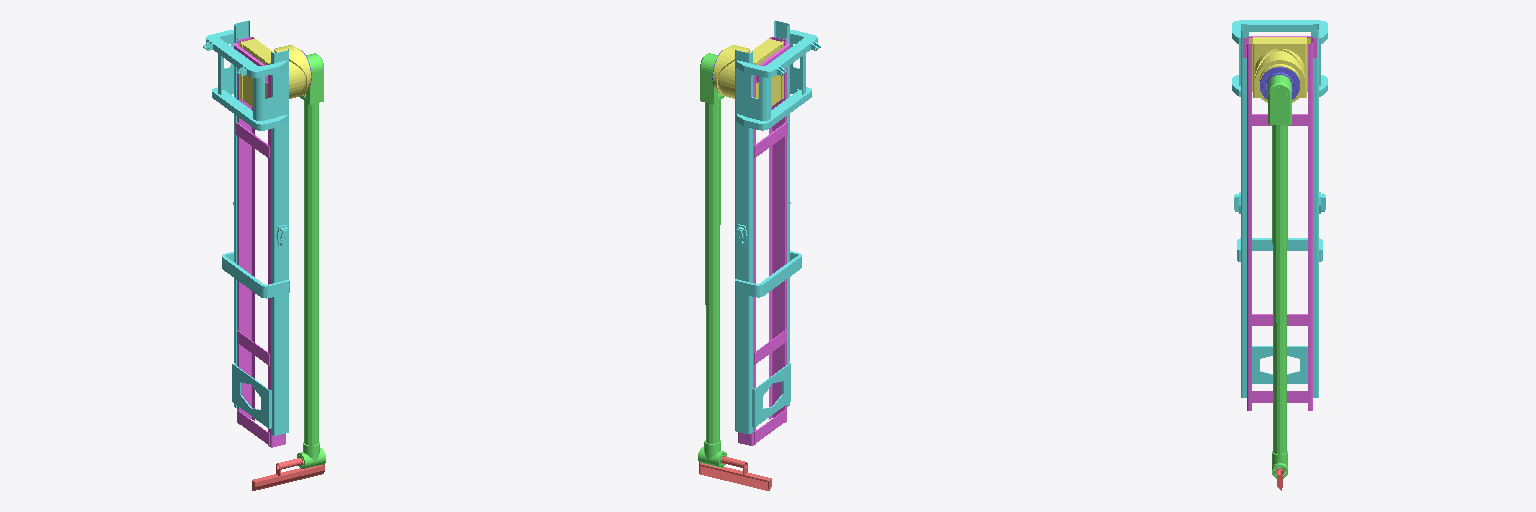
The robot description file, URDF, robot "excavator":
<?xml version="1.0"?>
<robot name="excavator">
  <gazebo>
    <plugin name="gazebo_ros_control" filename="libgazebo_ros_control.so">
      <robotNamespace>/excavator</robotNamespace>
      <robotSimType>gazebo_ros_control/DefaultRobotHWSim</robotSimType>
    </plugin>
  </gazebo>

  <!-- add transmission -->
  <transmission name="excavation_slope_control_transmission">
    <type>transmission_interface/SimpleTransmission</type>
    <joint name="excavation_slope_control_joint">
      <hardwareInterface>hardware_interface/PositionJointInterface</hardwareInterface>
    </joint>
    <actuator name="excavation_slope_control_motor">
      <hardwareInterface>hardware_interface/PositionJointInterface</hardwareInterface>
      <mechanicalReduction>1</mechanicalReduction>
    </actuator>
  </transmission>

  <transmission name="excavation_1st_translation_transmission">
    <type>transmission_interface/SimpleTransmission</type>
    <joint name="excavation_1st_translation_joint">
      <hardwareInterface>hardware_interface/PositionJointInterface</hardwareInterface>
    </joint>
    <actuator name="excavation_1st_translation_motor">
      <hardwareInterface>hardware_interface/PositionJointInterface</hardwareInterface>
      <mechanicalReduction>1</mechanicalReduction>
    </actuator>
  </transmission>

  <transmission name="excavation_2nd_translation_transmission">
    <type>transmission_interface/SimpleTransmission</type>
    <joint name="excavation_2nd_translation_joint">
      <hardwareInterface>hardware_interface/PositionJointInterface</hardwareInterface>
    </joint>
    <actuator name="excavation_2nd_translation_motor">
      <hardwareInterface>hardware_interface/PositionJointInterface</hardwareInterface>
      <mechanicalReduction>1</mechanicalReduction>
    </actuator>
  </transmission>

  <transmission name="excavation_arm_translation_transmission">
    <type>transmission_interface/SimpleTransmission</type>
    <joint name="excavation_arm_translation_joint">
      <hardwareInterface>hardware_interface/PositionJointInterface</hardwareInterface>
    </joint>
    <actuator name="excavation_arm_translation_motor">
      <hardwareInterface>hardware_interface/PositionJointInterface</hardwareInterface>
      <mechanicalReduction>1</mechanicalReduction>
    </actuator>
  </transmission>

  <transmission name="excavation_arm_control_transmission">
    <type>transmission_interface/SimpleTransmission</type>
    <joint name="excavation_arm_control_joint">
      <hardwareInterface>hardware_interface/EffortJointInterface</hardwareInterface>
    </joint>
    <actuator name="excavation_arm_control_motor">
      <hardwareInterface>hardware_interface/EffortJointInterface</hardwareInterface>
      <mechanicalReduction>16</mechanicalReduction>
    </actuator>
  </transmission>

  <transmission name="scooper_control_transmission">
    <type>transmission_interface/SimpleTransmission</type>
    <joint name="scooper_control_joint">
      <hardwareInterface>hardware_interface/EffortJointInterface</hardwareInterface>
    </joint>
    <actuator name="scooper_control_motor">
      <hardwareInterface>hardware_interface/EffortJointInterface</hardwareInterface>
      <mechanicalReduction>16</mechanicalReduction>
    </actuator>
  </transmission>

  <!-- fix body with the world -->
  <!-- <link name="world"/>
  <joint name="fixed" type="fixed">
    <parent link="world"/>
    <origin xyz="0 0 0" rpy="0 1.570796327 0" />
	  <child link="body"/>
  </joint> -->

  <link name="base_link">
  </link>
  <joint name="fixed_joint" type="fixed">
    <parent link="base_link"/>
    <child link="body"/>
  </joint>

    <!-- add IMU sensor -->
  <link name="imu_link">
    <inertial>
      <mass value="0.001"/>
      <origin rpy="0 0 0" xyz="0 0 0"/>
      <inertia
        ixx="0.0001" ixy="0" ixz="0"
        iyy="0.0001" iyz="0"
        izz="0.0001"/>
    </inertial>
    <visual>
      <origin rpy="0 0 0" xyz="0 0 0"/>
      <geometry>
        <box size="0.001 0.001 0.001"/>
      </geometry>
    </visual>
    <collision>
      <origin rpy="0 0 0" xyz="0 0 0"/>
      <geometry>
        <box size="0.001 0.001 0.001"/>
      </geometry>
    </collision>
  </link>
  <joint name="imu_joint" type="fixed">
    <axis xyz="1 0 0"/> <!-- 0 1 0 -->
    <origin xyz="0 0 0"/>
    <parent link="body"/>
    <child link="imu_link"/>
  </joint>

  <gazebo reference="imu_link">
    <gravity>true</gravity>
    <sensor name="imu_sensor" type="imu">
      <always_on>true</always_on>
      <update_rate>100</update_rate>
      <visualize>true</visualize>
      <topic>__default_topic__</topic>
      <plugin filename="libgazebo_ros_imu_sensor.so" name="imu_plugin">
        <topicName>imu</topicName>
        <bodyName>imu_link</bodyName>
        <updateRateHZ>500.0</updateRateHZ>
        <gaussianNoise>0.0</gaussianNoise>
        <xyzOffset>0 0 0</xyzOffset>
        <rpyOffset>0 0 0</rpyOffset>
        <frameName>imu_link</frameName>
      </plugin>
      <pose>0 0 0 0 0 0</pose>
    </sensor>
  </gazebo>


  <link name="body">
    <visual>
    <origin xyz="0 0 0" rpy="1.570796327 0 0" />
        <geometry>
          <mesh filename="package://lunar_excavator_description/meshes/main_body.stl"/>
        </geometry>
        <material name="">
          <color rgba="1 1 1 1" />
        </material>
    </visual>
    <collision>
      <origin xyz="-0.47 0 0" rpy="0 0 0" />
      <geometry>
        <mesh filename="package://lunar_excavator_description/meshes/main_body_simplified.stl"/>
      </geometry>
    </collision>
    <inertial>
        <origin xyz="-0.00684206 0 1.0145331" rpy="0 0 0" />
        <mass value="1916.2173" />
        <inertia
          ixx="1354.451" ixy="0.00415954" ixz="-2.3276209"
          iyy="1352.6798" iyz="-0.00747127"
          izz="570.01685" />
    </inertial>
  </link>

  <link name="outer_rails">
    <visual>
    <origin xyz="0 0 0" rpy="0 0 0" />
        <geometry>
          <mesh filename="package://lunar_excavator_description/meshes/outer_rails.stl"/>
        </geometry>
        <material name="">
          <color rgba="0.5 1 1 1" />
        </material>
    </visual>
    <collision>
      <origin xyz="0 0 0" rpy="0 0 0" />
      <geometry>
        <mesh filename="package://lunar_excavator_description/meshes/outer_rails.stl"/>
      </geometry>
    </collision>
    <inertial>
        <origin xyz="0.74998261 -0.00005811 0.16658389" rpy="0 0 0" />
        <mass value="27.63177009" />
        <inertia
          ixx="1.27870056" ixy="-0.00050103" ixz="0.74296627"
          iyy="15.03945632" iyz="-0.00013221"
          izz="15.99756570" />
    </inertial>
  </link>
  <joint name="excavation_slope_control_joint" type="revolute">
    <limit effort="1000.0" velocity="1.0" lower="-0.1745329252" upper="0.05235987756" />
    <origin xyz="0.25 0 2.44" rpy="0 1.570796327 0" />
    <parent link="body" />
    <child link="outer_rails" />
    <axis xyz="0 1 0" />
    <dynamics friction="0" damping="0" />
  </joint>

  <link name="inner_rails">
    <visual>
    <origin xyz="0 0 0" rpy="0 0 0" />
        <geometry>
          <mesh filename="package://lunar_excavator_description/meshes/inner_rails.stl"/>
        </geometry>
        <material name="">
          <color rgba="1 0.5 1 1" />
        </material>
    </visual>
    <collision>
      <origin xyz="0 0 0" rpy="0 0 0" />
      <geometry>
        <mesh filename="package://lunar_excavator_description/meshes/inner_rails.stl"/>
      </geometry>
    </collision>
    <inertial>
        <origin xyz="1.12792092 0 0.07251447" rpy="0 0 0" />
        <mass value="10.85744133" />
        <inertia
          ixx="0.36660754" ixy="0.0" ixz="0.03657933"
          iyy="5.74477941" iyz="0.0"
          izz="6.07655683" />
    </inertial>
  </link>
  <joint name="excavation_1st_translation_joint" type="prismatic">
    <limit effort="1000.0" velocity="1.0" lower="0" upper="2.0" />
    <origin xyz="0 0 0.162" rpy="0 0 0" />
    <parent link="outer_rails" />
    <child link="inner_rails" />
    <axis xyz="1 0 0" />
    <dynamics friction="0" damping="0" />
  </joint>

  <link name="slider">
    <visual>
    <origin xyz="0 0 0" rpy="0 0 0" />
        <geometry>
          <mesh filename="package://lunar_excavator_description/meshes/slider.stl"/>
        </geometry>
        <material name="">
          <color rgba="1 1 0.5 1" />
        </material>
    </visual>
    <collision>
      <origin xyz="0 0 0" rpy="0 0 0" />
      <geometry>
          <mesh filename="package://lunar_excavator_description/meshes/slider.stl"/>
      </geometry>
    </collision>
    <inertial>
        <origin xyz="-0.00000109 -0.17547206 0.14659691" rpy="0 0 0" />
        <mass value="1" />
        <inertia
          ixx="0.21357296" ixy="-0.00000089" ixz="-0.00000044"
          iyy="0.21596446" iyz="0.00295147"
          izz="0.26680748" />
    </inertial>
  </link>
  <joint name="excavation_2nd_translation_joint" type="prismatic">
    <limit effort="1000.0" velocity="1.0" lower="-2.0" upper="0" />
    <origin xyz="0 0 0.039" rpy="0 0 1.570796327" />
    <parent link="inner_rails" />
    <child link="slider" />
    <axis xyz="0 1 0" />
    <dynamics friction="0" damping="0" />
  </joint>

  <link name="cylinder">
    <inertial>
      <origin xyz="0.12813039 0 0" rpy="0 0 0" />
      <mass value="12.631701" />
      <inertia
        ixx="0.12700231" ixy="0" ixz="0"
        iyy="0.09321138" iyz="0"
        izz="0.09245197" />
    </inertial>
    <visual>
      <origin xyz="0 0 0" rpy="0 0 0" />
      <geometry>
        <mesh filename="package://lunar_excavator_description/meshes/cylinder.stl"/>
      </geometry>
      <material name="">
        <color rgba="0.5 0.5 1 1" />
      </material>
    </visual>
    <collision>
      <origin xyz="0 0 0" rpy="0 0 0" />
      <geometry>
        <mesh filename="package://lunar_excavator_description/meshes/cylinder_low.stl"/>
      </geometry>
    </collision>
  </link>
  <joint name="excavation_arm_translation_joint" type="prismatic">
    <limit effort="1000.0" velocity="1.0" lower="0" upper="0.12" />
    <origin xyz="0 -0.175 0.112" rpy="-1.570796327 -1.570796327 0" />
    <parent link="slider" />
    <child link="cylinder" />
    <axis xyz="1 0 0" />
    <dynamics friction="0" damping="0" />
  </joint>

  <link name="excavation_arm">
    <inertial>
      <origin xyz="1.061534 0 0.16458509" rpy="0 0 0" />
      <mass value="13.251326" />
      <inertia
        ixx="0.03657338" ixy="1.0E-08" ixz="0.07600599"
        iyy="8.9381717" iyz="0"
        izz="8.9310759" />
    </inertial>
    <visual>
      <origin xyz="0 0 0" rpy="0 0 0" />
      <geometry>
        <mesh filename="package://lunar_excavator_description/meshes/excavation_arm.stl"/>
      </geometry>
      <material name="">
        <color rgba="0.5 1 0.5 1" />
      </material>
    </visual>
    <collision>
      <origin xyz="0 0 0" rpy="0 0 0" />
      <geometry>
        <mesh filename="package://lunar_excavator_description/meshes/excavation_arm_low.stl"/>
      </geometry>
    </collision>
  </link>
  <joint name="excavation_arm_control_joint" type="continuous">
    <origin xyz="0.093 0 0" rpy="0 1.570796327 0" />
    <parent link="cylinder" />
    <child link="excavation_arm" />
    <axis xyz="0 0 1" />
    <dynamics friction="0" damping="0" />
  </joint>

  <link name="scooper">
    <inertial>
      <origin xyz="-0.00478844 -0.04155605 0" rpy="0 0 0" />
      <mass value="0.64120597" />
      <inertia
        ixx="0.00645377" ixy="0" ixz="0"
        iyy="0.00497204" iyz="0"
        izz="0.00170747" />
    </inertial>
    <visual>
      <origin xyz="0 0 0" rpy="0 0 0" />
      <geometry>
        <mesh filename="package://lunar_excavator_description/meshes/scooper.stl" />
      </geometry>
      <material name="">
        <color rgba="1 0.5 0.5 1" />
      </material>
    </visual>
    <collision>
      <origin xyz="0 0 0" rpy="0 0 0" />
      <geometry>
        <mesh filename="package://lunar_excavator_description/meshes/scooper.stl"  />
      </geometry>
    </collision>
  </link>
  <joint name="scooper_control_joint" type="continuous">
    <origin xyz="2.46 0 0.17" rpy="0 0 0" />
    <parent link="excavation_arm" />
    <child link="scooper" />
    <axis xyz="0 0 1" />
    <dynamics friction="0" damping="0" />
  </joint>
</robot>

--- What the picture shows (computed from the rendered views, not written in the file) ---
Views: 3 orthographic renders of the robot side by side, from view 1: azimuth 30°, elevation 25°; view 2: azimuth 150°, elevation 25°; view 3: azimuth 270°, elevation 25°.
Model excavator with 9 links and 8 joints (1 revolute, 2 continuous, 3 prismatic, 2 fixed), rooted at base_link, posed all joints at 0.
Visible links, largest first — view 1: outer_rails, inner_rails, excavation_arm, slider, scooper; view 2: outer_rails, inner_rails, excavation_arm, slider, scooper; view 3: outer_rails, excavation_arm, inner_rails, slider, cylinder.
Link boxes in pixels (x1,y1,x2,y2): outer_rails: [203, 20, 289, 435]; inner_rails: [234, 37, 285, 447]; excavation_arm: [297, 53, 325, 468]; slider: [240, 39, 310, 106]; scooper: [252, 457, 324, 490]; outer_rails: [735, 20, 820, 433]; inner_rails: [738, 37, 789, 445]; excavation_arm: [698, 53, 726, 467]; slider: [713, 39, 783, 106]; scooper: [699, 456, 771, 490]; outer_rails: [1232, 20, 1327, 397]; excavation_arm: [1268, 75, 1291, 478]; inner_rails: [1243, 36, 1316, 410]; slider: [1249, 37, 1310, 102]; cylinder: [1260, 67, 1299, 99].
Bounding box of the posed robot: 0.9065 × 0.564 × 2.85 m (x, y, z).
Meshes: 7 distinct files referenced, 6 mesh visuals loaded (6 binary STL); not drawn: 1 (reference not matched to a file when rendering).